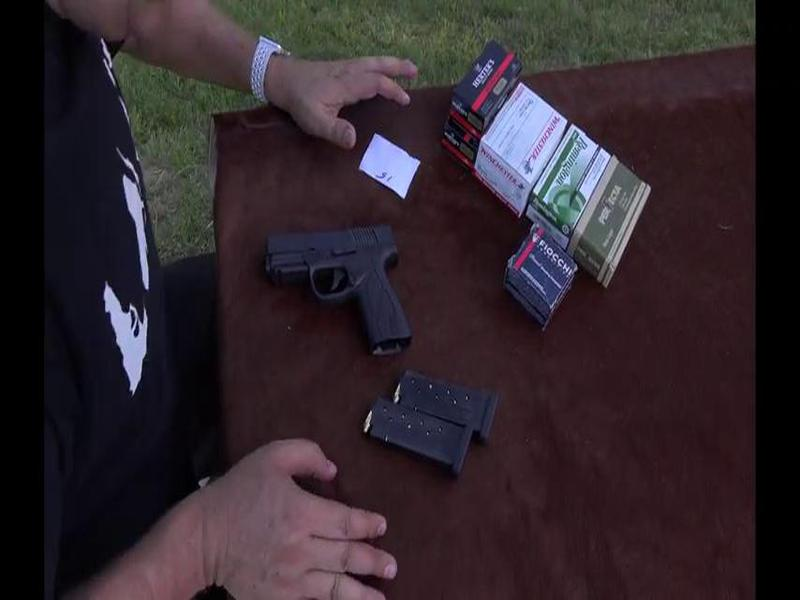Pistola: (257, 211, 425, 363)
